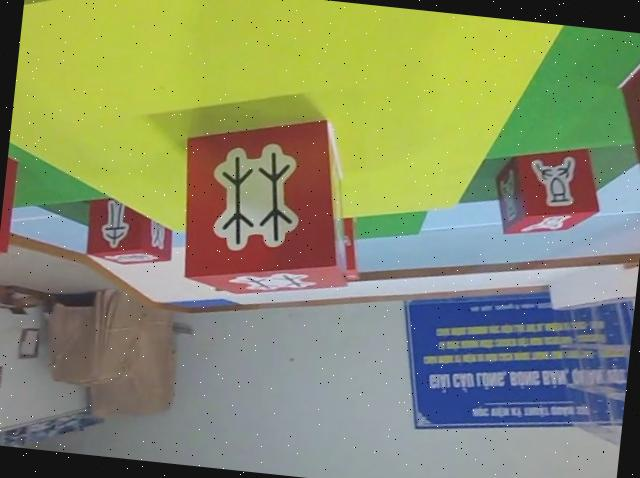R2 Fake: (82, 193, 177, 272), (604, 30, 640, 198)
R2 Real: (169, 103, 365, 307), (487, 136, 608, 246), (0, 139, 20, 266)
